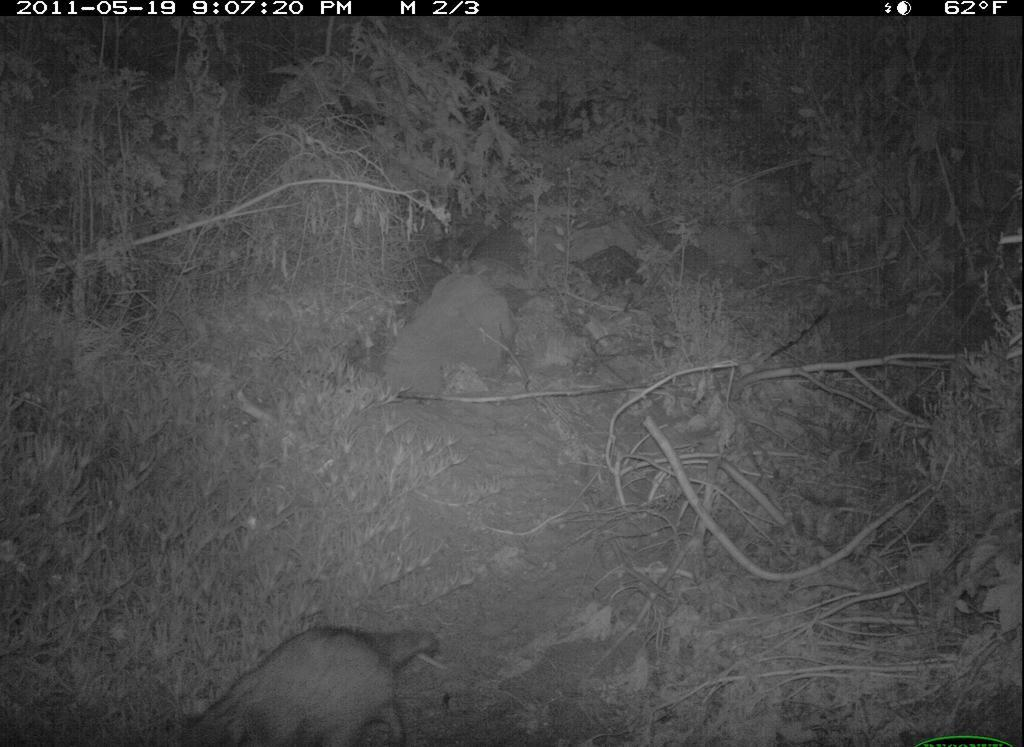raccoon: (141, 614, 455, 747)
